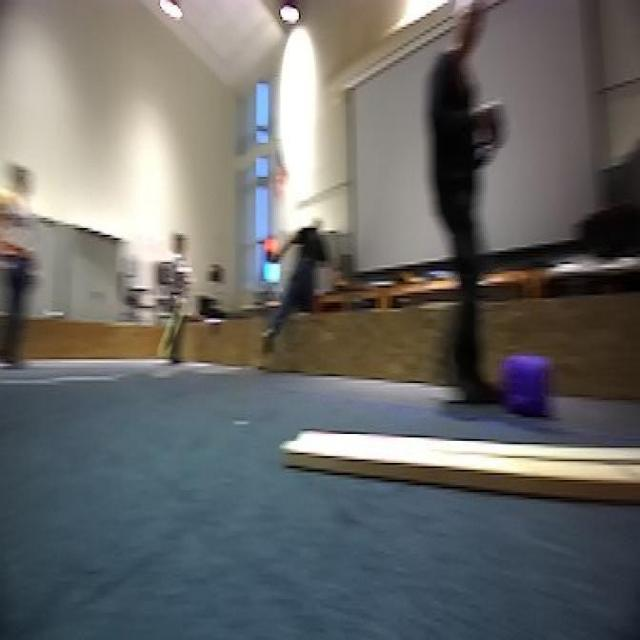frc_cube: (504, 347, 561, 422)
